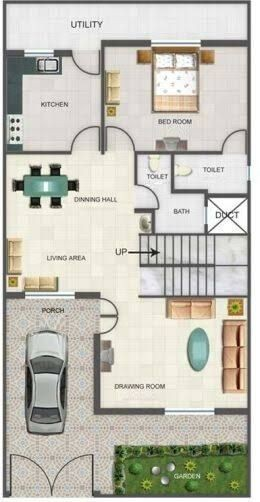door: (8, 451, 101, 484), (72, 53, 102, 78), (219, 123, 249, 148), (103, 123, 133, 148), (72, 123, 102, 148), (138, 185, 164, 210), (102, 312, 124, 334), (100, 296, 121, 318)
